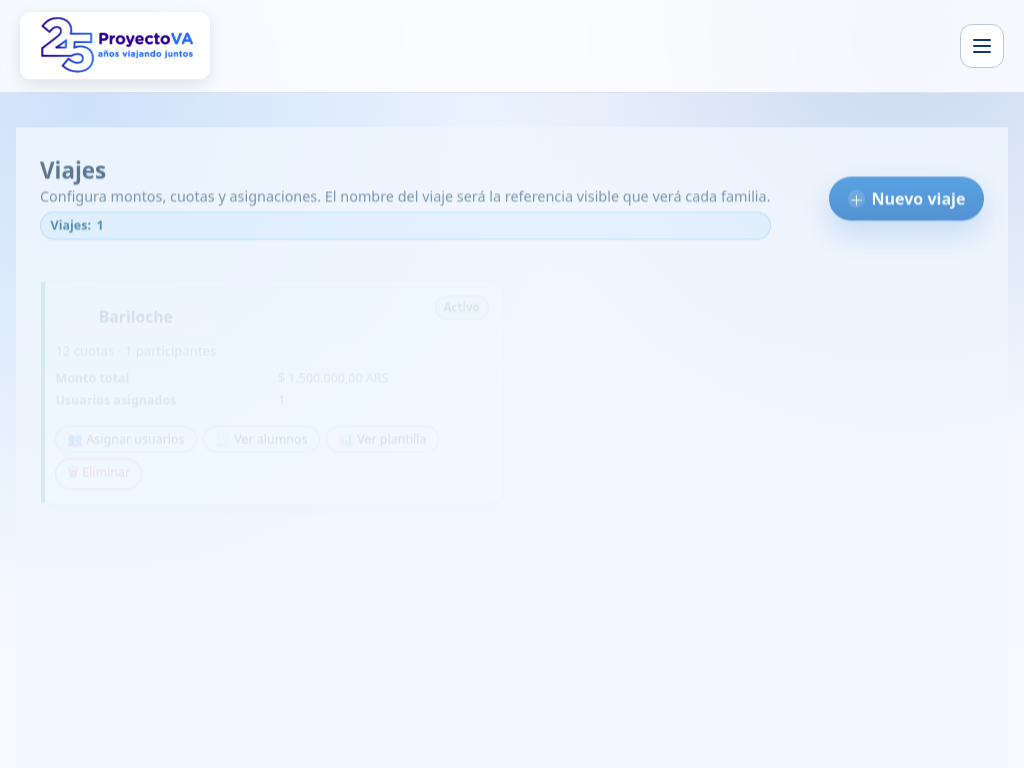
Scenario: TripsAdminPage › permite ver y desasignar chicos del viaje con doble confirmacion
What coordinates should you click on to do the following:
click the button with aria-label "Ver chicos del viaje Bariloche"
I would click on:
 (261, 438)
Its box is [203,425,320,452].
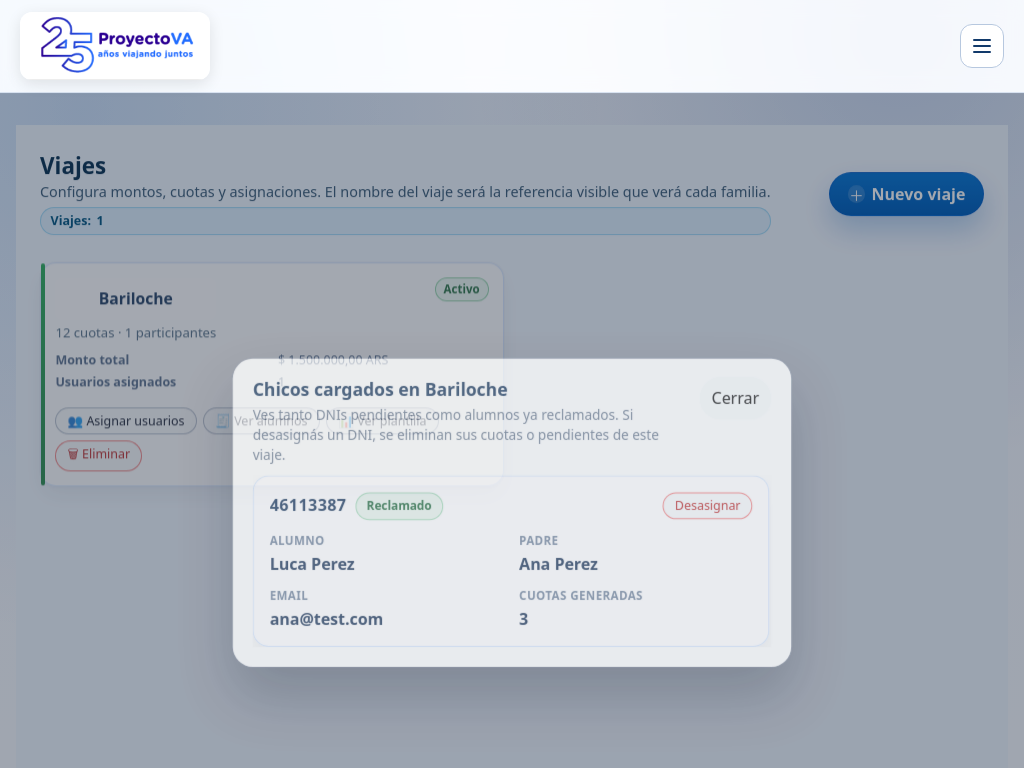
Now the text "46113387" is shown, box [270,494,346,517]
Now the text "Luca Perez" is shown, box [270,553,355,575]
What coordinates should you click on to do the following:
click the button "Desasignar"
I would click on:
 (708, 505)
Its box is [663,492,753,519].
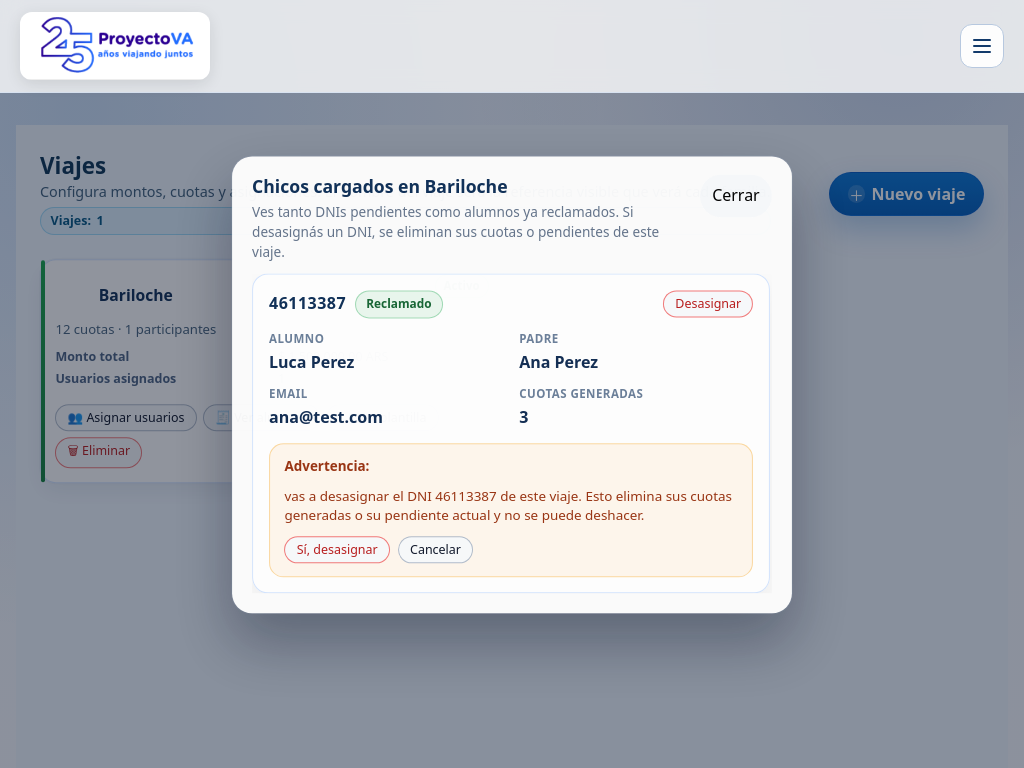
Now the text "vas a desasignar el DNI 46113387 de este viaje" is shown, box [269,443,753,577]
What coordinates should you click on to do the following:
click the button "Sí, desasignar"
I would click on:
 (337, 549)
Its box is [284,536,390,563].
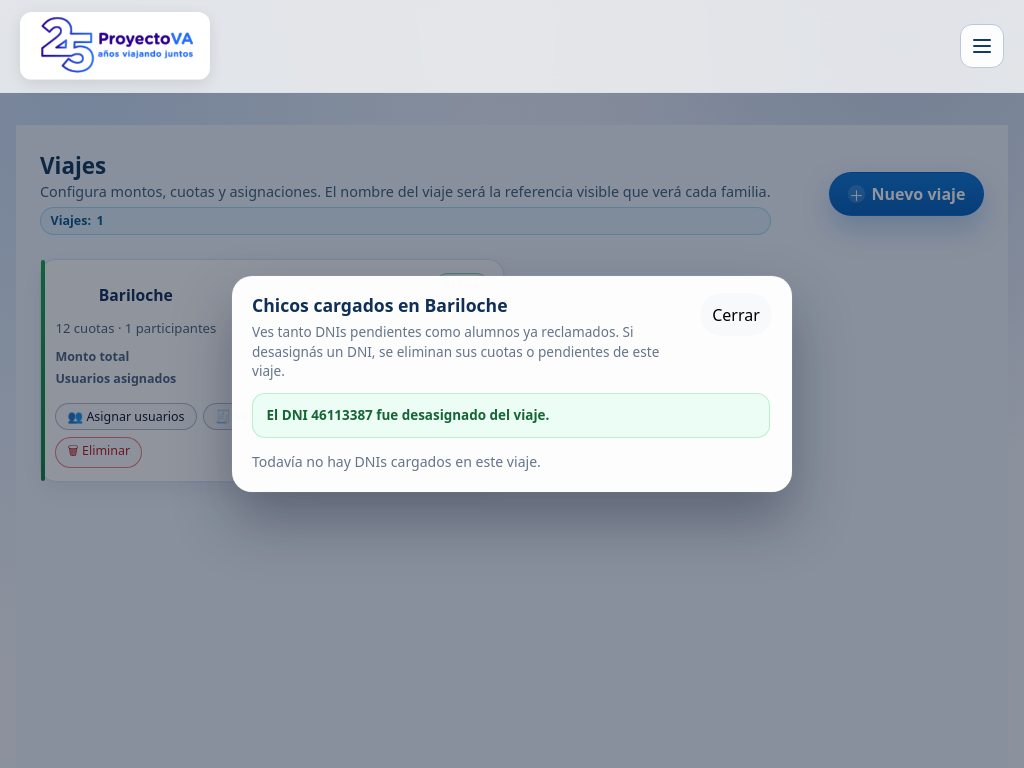
Now the text "El DNI 46113387 fue desasignado del viaje." is shown, box [252,393,770,438]
Now the text "Todavía no hay DNIs cargados en este viaje." is shown, box [252,452,541,471]
